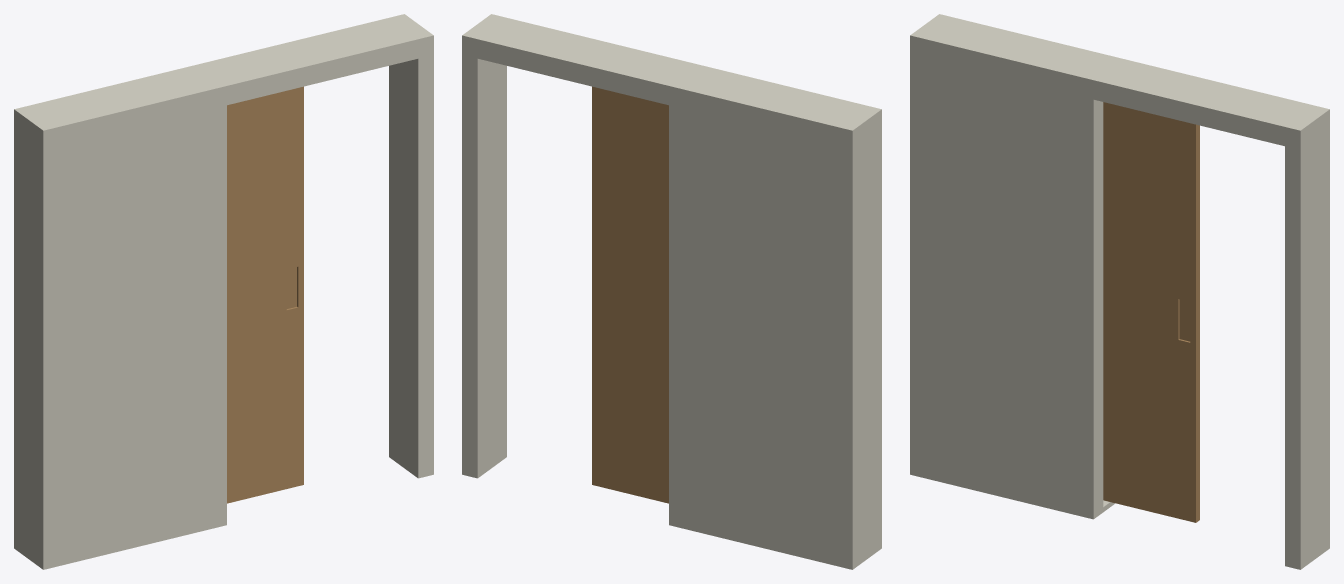
3 views of the same model, side by side, from view 1: azimuth 30°, elevation 25°; view 2: azimuth 150°, elevation 25°; view 3: azimuth 330°, elevation 25° (orthographic).
Visible parts, largest first — view 1: WholeHollowWallPocketAndOpeningFrame, WholeHalfRetractedLeafWithBlindPull; view 2: WholeHollowWallPocketAndOpeningFrame, WholeHalfRetractedLeafWithBlindPull; view 3: WholeHollowWallPocketAndOpeningFrame, WholeHalfRetractedLeafWithBlindPull.
Part boxes in pixels (x1,y1,x2,y2): WholeHollowWallPocketAndOpeningFrame: [14, 14, 433, 569]; WholeHalfRetractedLeafWithBlindPull: [227, 86, 303, 503]; WholeHollowWallPocketAndOpeningFrame: [462, 14, 881, 569]; WholeHalfRetractedLeafWithBlindPull: [592, 86, 668, 503]; WholeHollowWallPocketAndOpeningFrame: [910, 14, 1329, 569]; WholeHalfRetractedLeafWithBlindPull: [1103, 102, 1199, 522].
Bounding box in the file's own units: 2 × 2.15 × 0.26.
